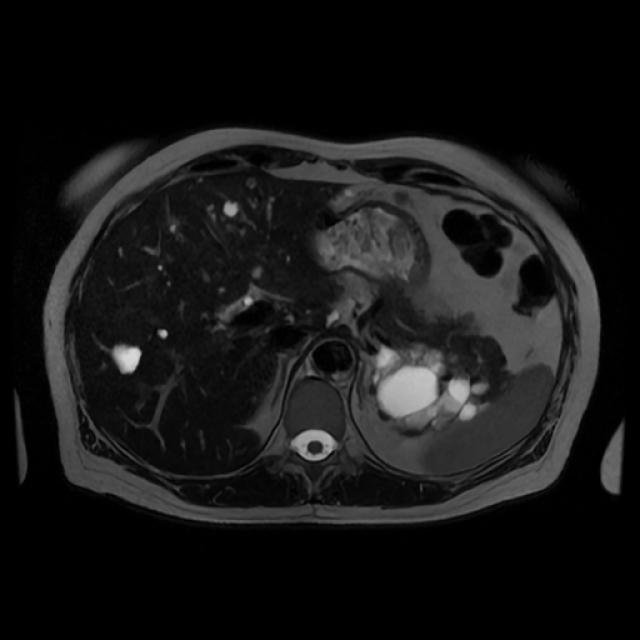sol: (369, 342, 491, 438)
